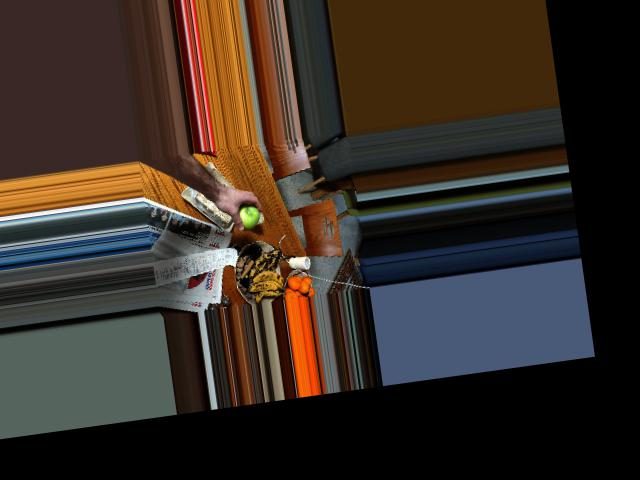apple: (232, 198, 262, 231)
